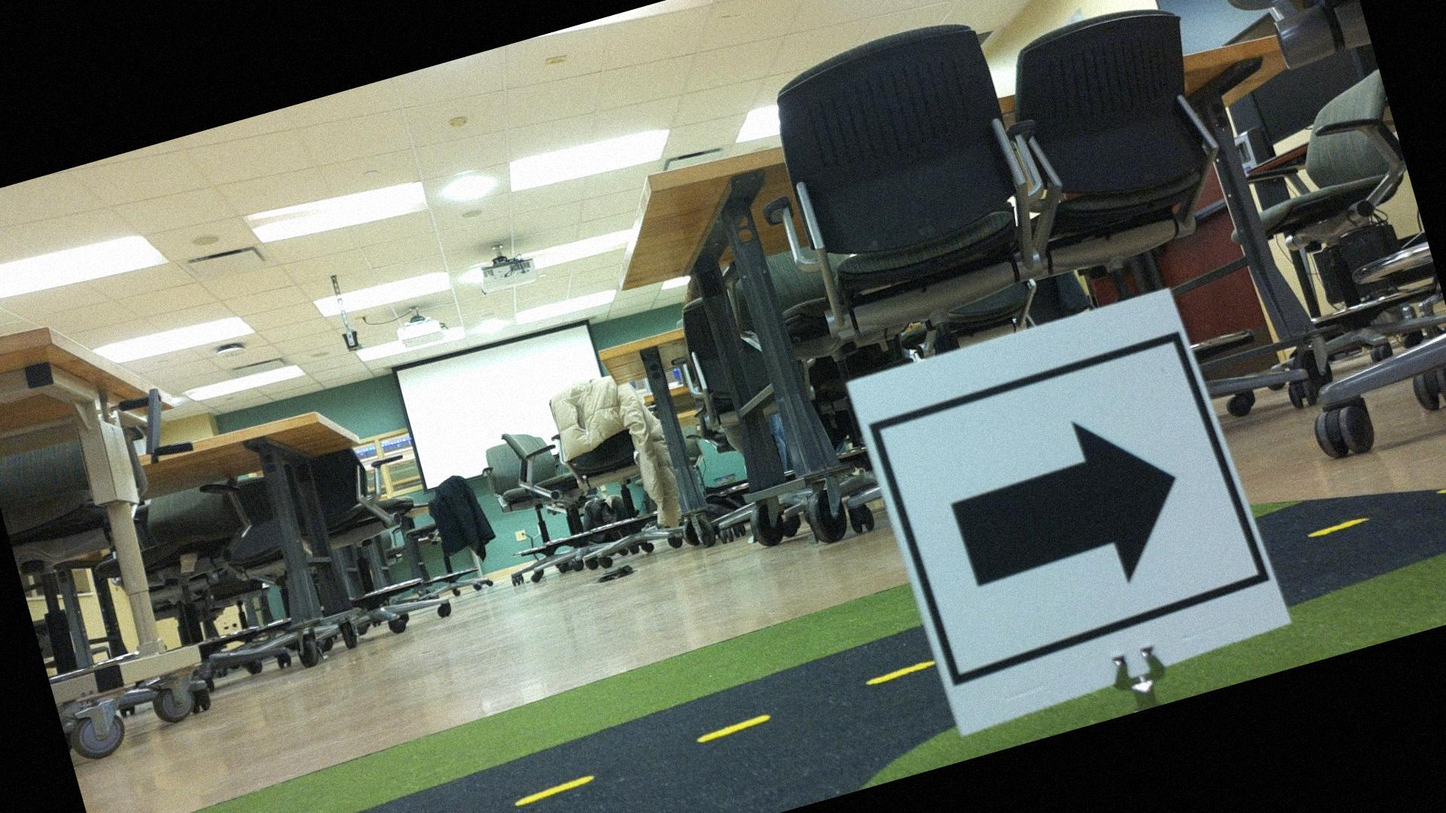turnleft: (865, 300, 1250, 684)
yellowline: (108, 658, 944, 812)
